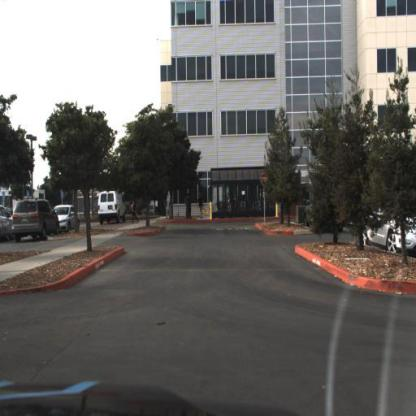car: (363, 189, 416, 255), (12, 197, 62, 244), (303, 192, 345, 235), (97, 190, 127, 226), (54, 203, 80, 234)
pedestrian: (197, 191, 207, 219), (131, 199, 141, 226), (185, 194, 191, 219), (189, 194, 193, 218)
truck: (97, 190, 126, 226)
